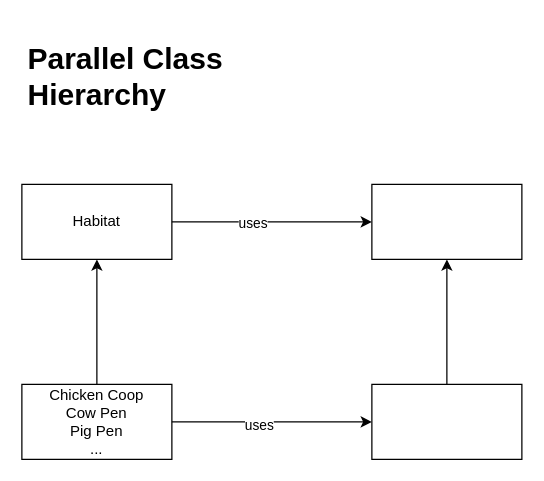
Image size: 544x481. Some labels were removed from this diagram. Each missing label, with the centre of its shape:
"Animal" belongs at [446,221].
"Chicken Cow Pig ..." belongs at [446,421].
